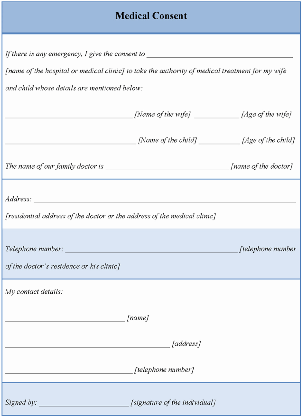textline: (32, 190, 298, 205), (3, 335, 172, 351), (63, 241, 240, 256), (144, 46, 297, 62), (3, 133, 139, 148), (2, 363, 136, 378), (3, 105, 135, 120), (103, 158, 232, 172), (2, 310, 128, 324), (36, 395, 132, 409), (197, 134, 241, 147), (192, 108, 242, 119)
